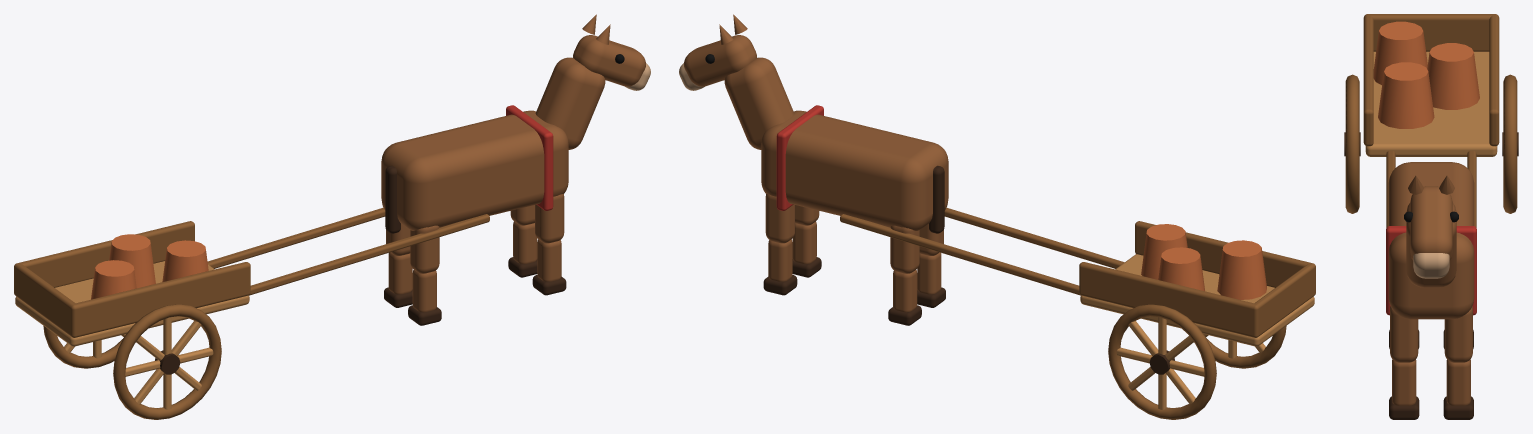
The model's file is horse_cart.glb.
3 renders of one model, left to right at view 1: azimuth 30°, elevation 25°; view 2: azimuth 150°, elevation 25°; view 3: azimuth 270°, elevation 25°, orthographic. The views are drawn at different scales.
Parts seen in each view (by area): view 1: cart, body, wheel_L, head, shin_FL, shin_BL, shin_FR, shin_BR, wheel_R, leg_FL, leg_BL, tail; view 2: cart, body, wheel_R, head, shin_FR, shin_BR, shin_FL, shin_BL, wheel_L, leg_FR, leg_BR, tail; view 3: cart, body, head, wheel_R, wheel_L, shin_FL, shin_FR, leg_FL, leg_FR.
Part boxes in pixels (box(x1,y1,x2,y2)): cart: box(14, 207, 489, 346); body: box(381, 57, 605, 230); wheel_L: box(113, 304, 221, 419); head: box(573, 14, 650, 90); shin_FL: box(532, 239, 566, 295); shin_BL: box(408, 270, 441, 325); shin_FR: box(508, 221, 537, 277); shin_BR: box(384, 252, 412, 307); wheel_R: box(43, 326, 125, 368); leg_FL: box(535, 194, 564, 243); leg_BL: box(410, 225, 439, 273); tail: box(385, 165, 400, 233); cart: box(840, 207, 1315, 346); body: box(724, 57, 948, 230); wheel_R: box(1108, 304, 1216, 419); head: box(679, 14, 756, 90); shin_FR: box(763, 239, 797, 295); shin_BR: box(888, 270, 921, 325); shin_FL: box(792, 221, 821, 277); shin_BL: box(917, 252, 945, 307); wheel_L: box(1204, 326, 1286, 368); leg_FR: box(765, 194, 794, 243); leg_BR: box(890, 225, 919, 273); tail: box(929, 165, 944, 233); cart: box(1363, 14, 1499, 227); body: box(1386, 162, 1476, 319); head: box(1404, 175, 1458, 278); wheel_R: box(1502, 74, 1518, 213); wheel_L: box(1344, 74, 1360, 213); shin_FL: box(1389, 359, 1419, 419); shin_FR: box(1443, 359, 1473, 419); leg_FL: box(1390, 306, 1418, 362); leg_FR: box(1444, 306, 1472, 362).
Size of the model in its own units: 4.79 by 1.96 by 1.06.
